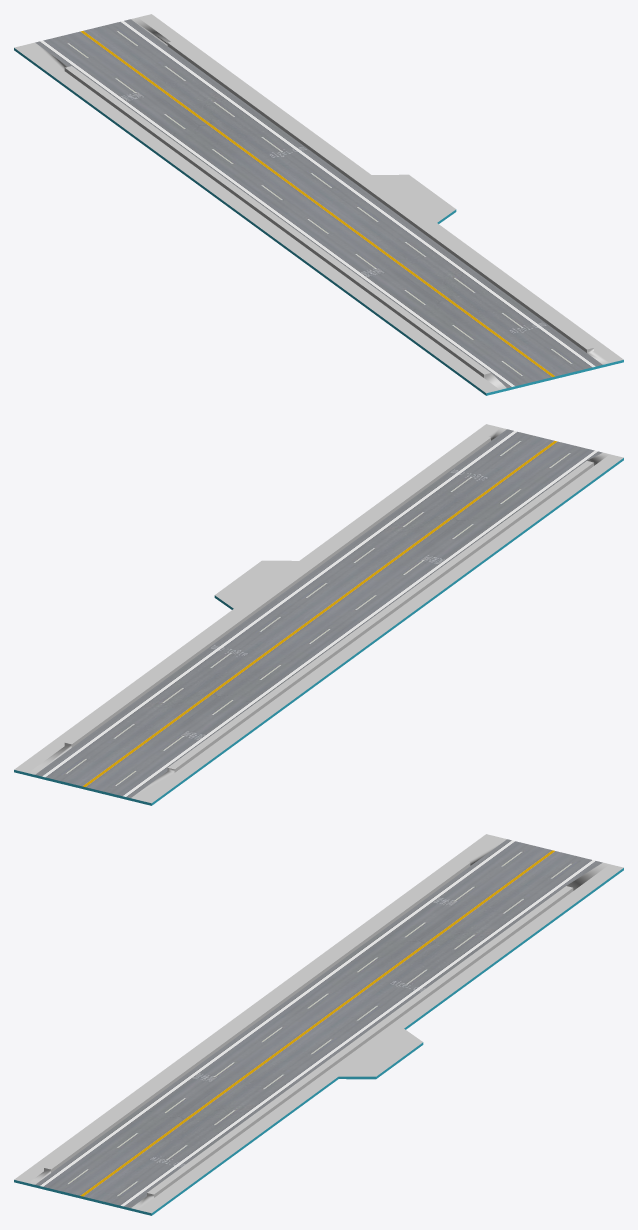
File: road.obj
3 views of the same model, one above another, from view 1: azimuth 30°, elevation 25°; view 2: azimuth 150°, elevation 25°; view 3: azimuth 330°, elevation 25° (orthographic).
Parts seen in each view (by area): view 1: ??; view 2: ??; view 3: ??.
Boxes of the visible parts, left/top/right/bottom form: ??: left=14, top=14, right=623, bottom=395; ??: left=14, top=424, right=623, bottom=805; ??: left=14, top=834, right=623, bottom=1215.
Size of the model in its own units: 590 by 20.66 by 2904.
